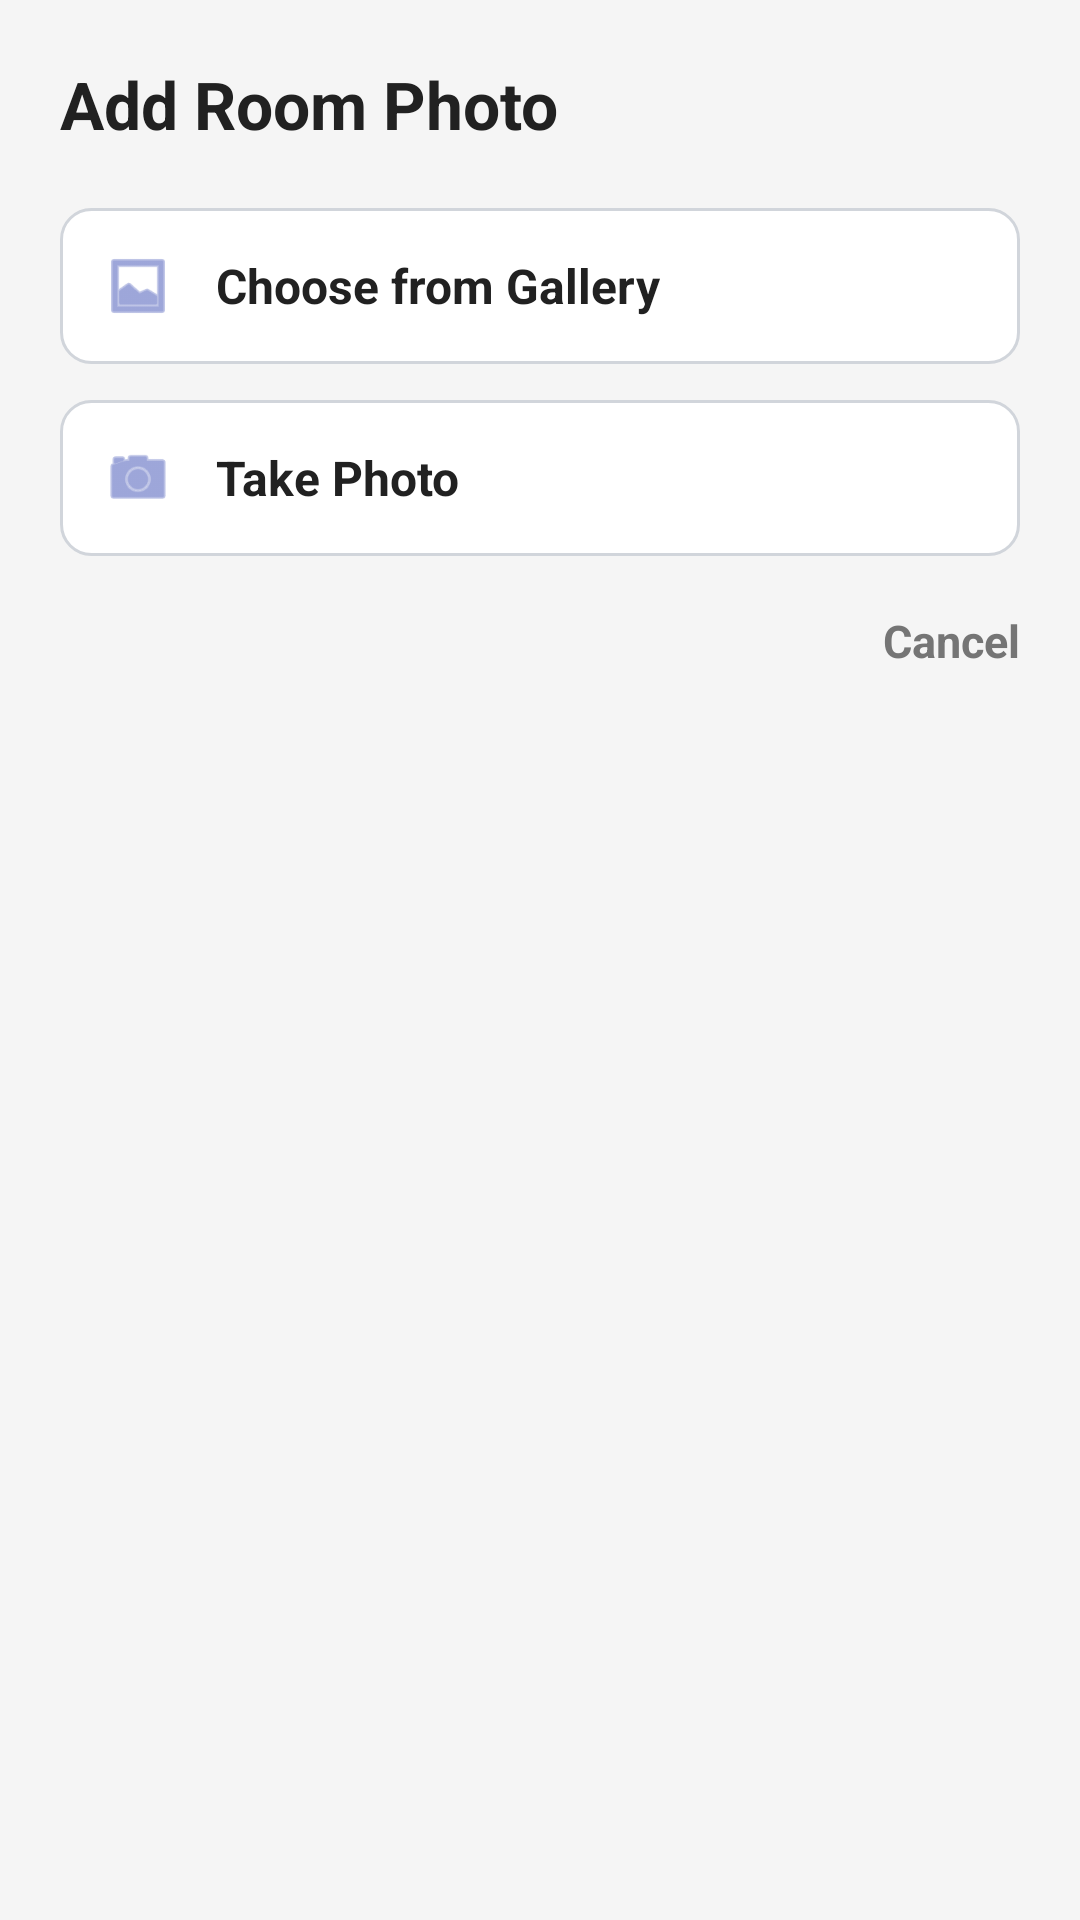

Icon bounding boxes for this 1080px×1920px phone screenshot, format (x1, y1, x2, y2):
Camera: (110, 455, 166, 499)
